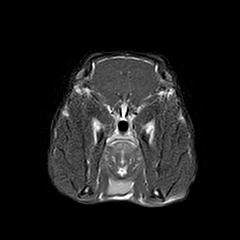Brain: (75, 25, 174, 123)
